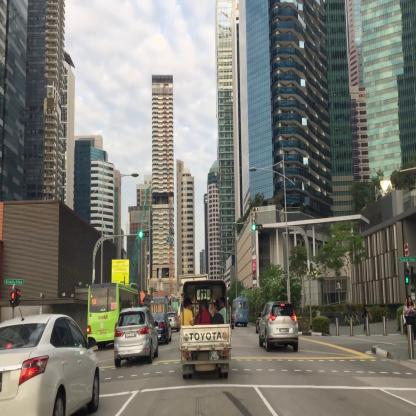green_traffic_light: (250, 221, 264, 235), (138, 225, 150, 238)
